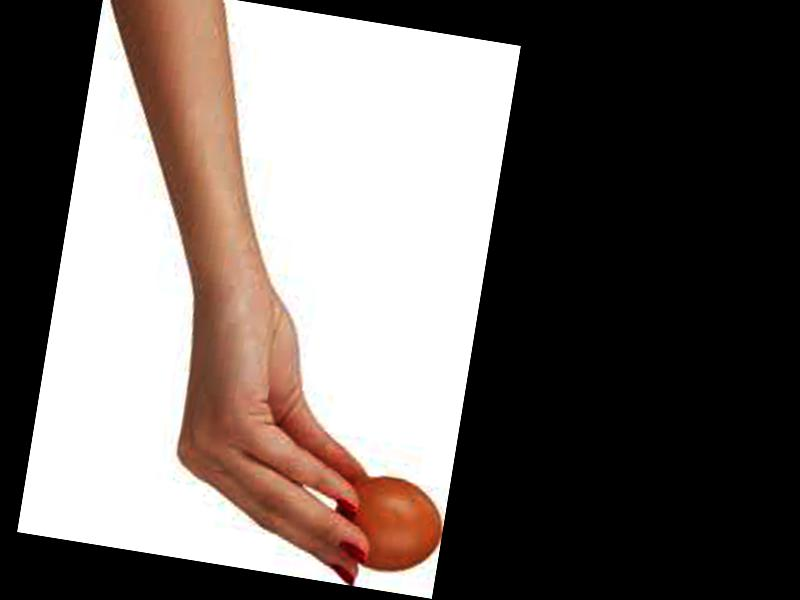Eggs: (330, 469, 447, 579)
